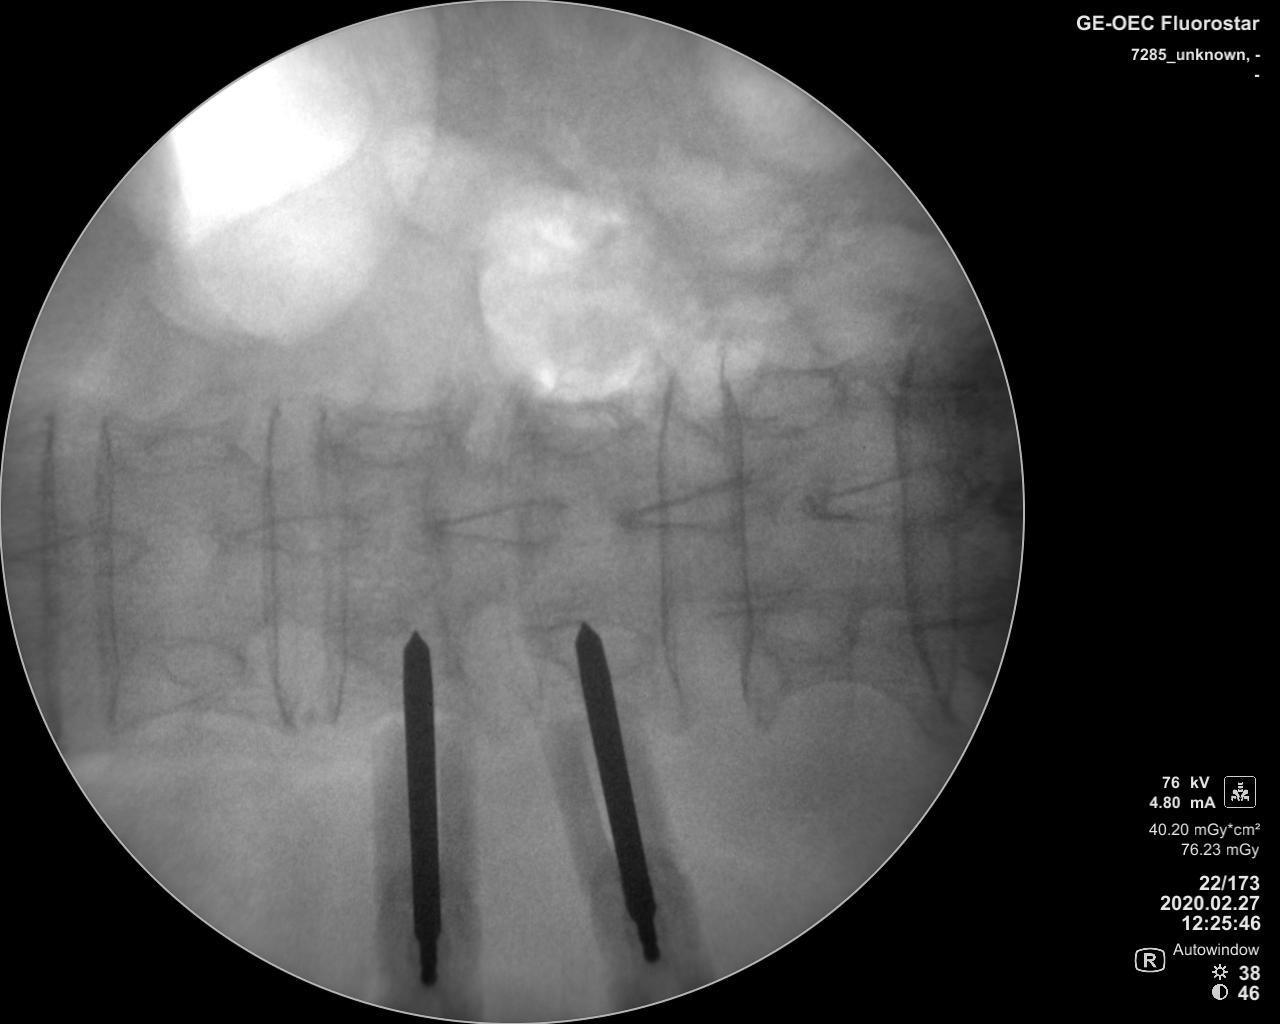eyes: (737, 360, 853, 435), (757, 587, 862, 666), (534, 616, 659, 681), (343, 625, 459, 682), (525, 397, 628, 460), (343, 416, 453, 470), (157, 636, 250, 695)
line: (893, 346, 948, 707), (715, 356, 761, 727), (310, 393, 353, 726), (653, 362, 689, 727), (262, 402, 300, 731), (93, 413, 125, 738), (39, 416, 67, 737)
nose: (802, 460, 978, 532), (606, 475, 776, 537), (419, 496, 571, 554), (11, 523, 147, 581), (234, 507, 372, 559)
